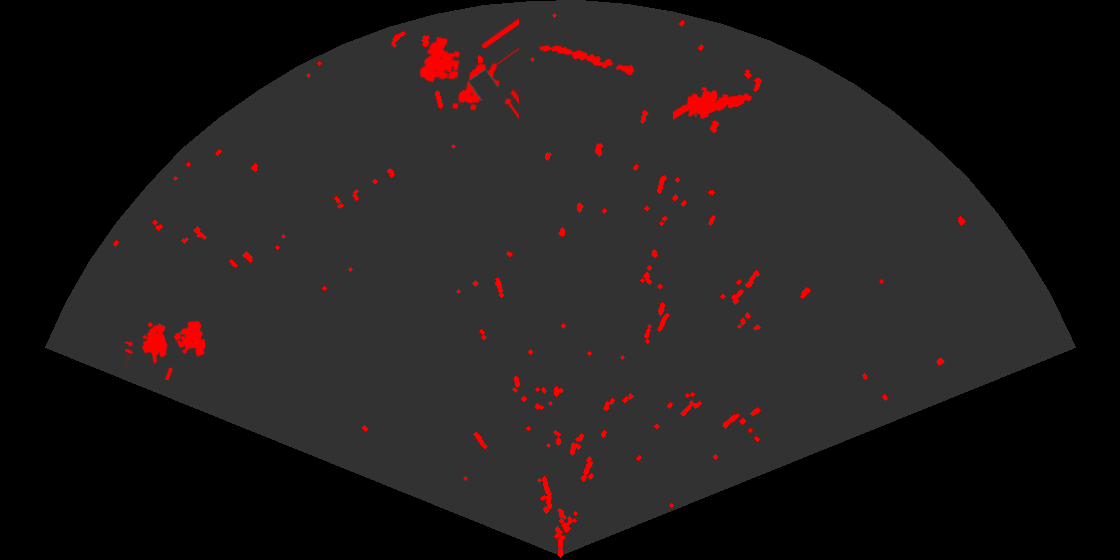cage: (418, 16, 519, 121), (125, 319, 207, 380)
chain: (538, 44, 637, 77)
frogman: (673, 85, 753, 121)
